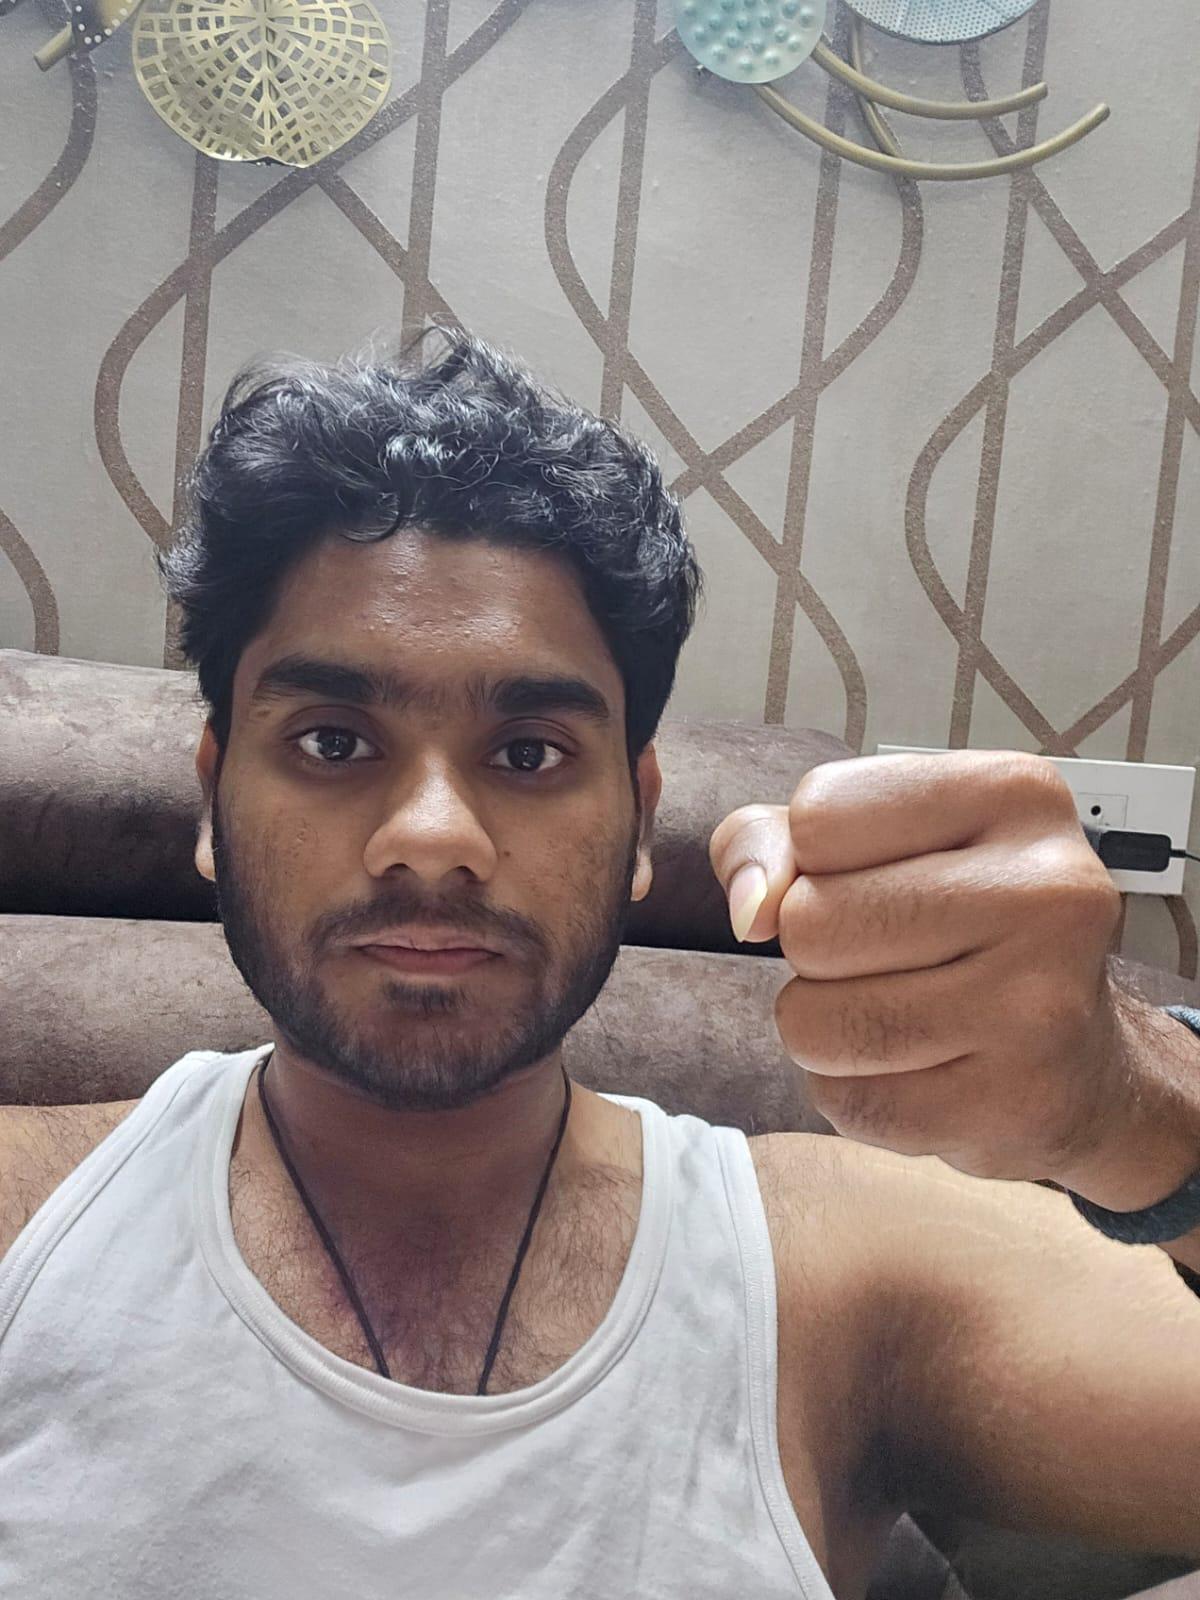yes: (705, 743, 1124, 1193)
